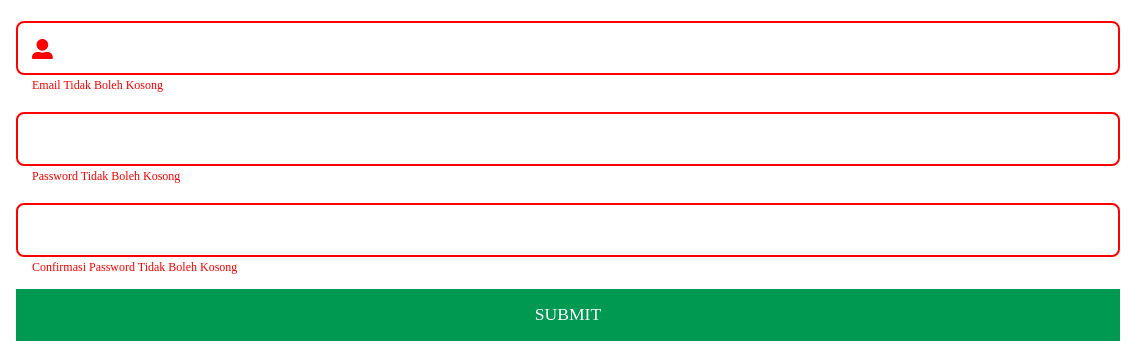
Test: Form Register › should is not show validation warning when form input value is not empty
Event change input is empty
Type "paatlupi@gmail.com" into the 1st field with test id "inputElement" at point(568, 48), box [16,21,1120,75]
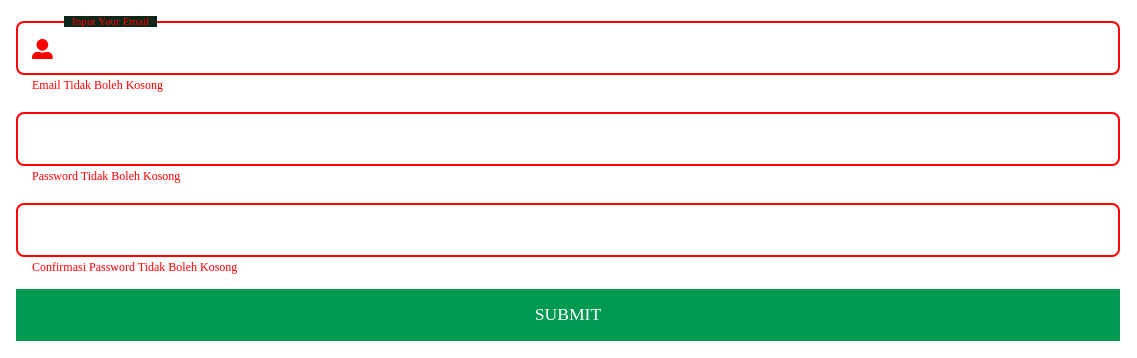
Type "123456" into the 2nd password field with test id "inputElement" at point(568, 139), box [16,112,1120,166]
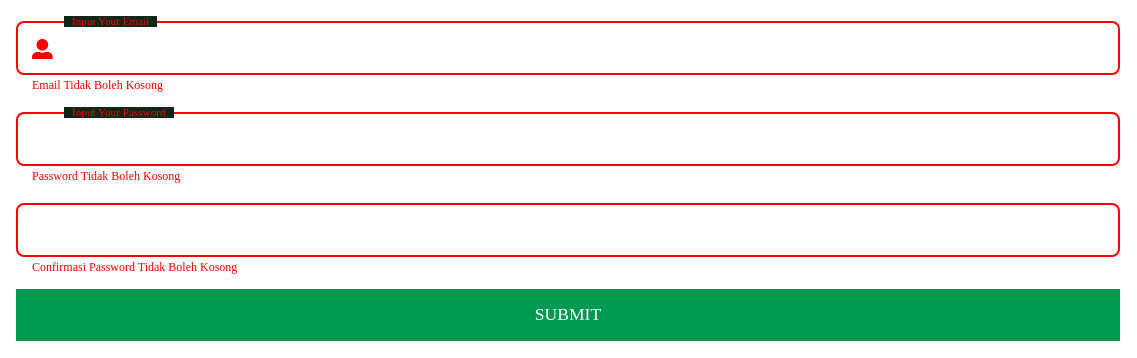
Type "123456" into the 3rd password field with test id "inputElement" at point(568, 230), box [16,203,1120,257]
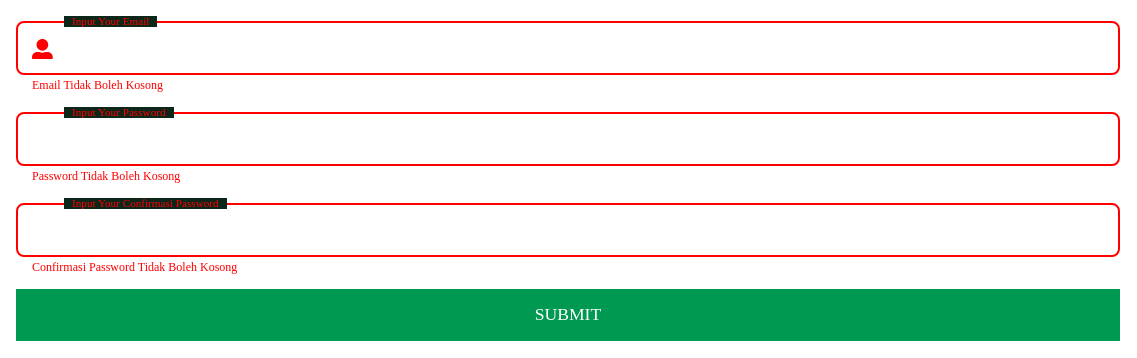
Event click
Click the button "submit" at point(568, 315), box [16,289,1120,341]
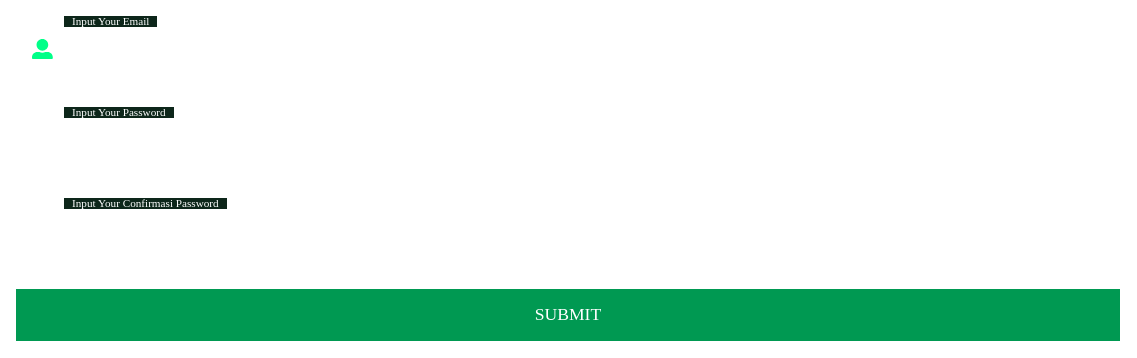
Expected: the text "email tidak boleh kosong" is gone
Expected: the text "password tidak boleh kosong" is gone
Expected: the text "confirmasi password tidak boleh kosong" is gone
